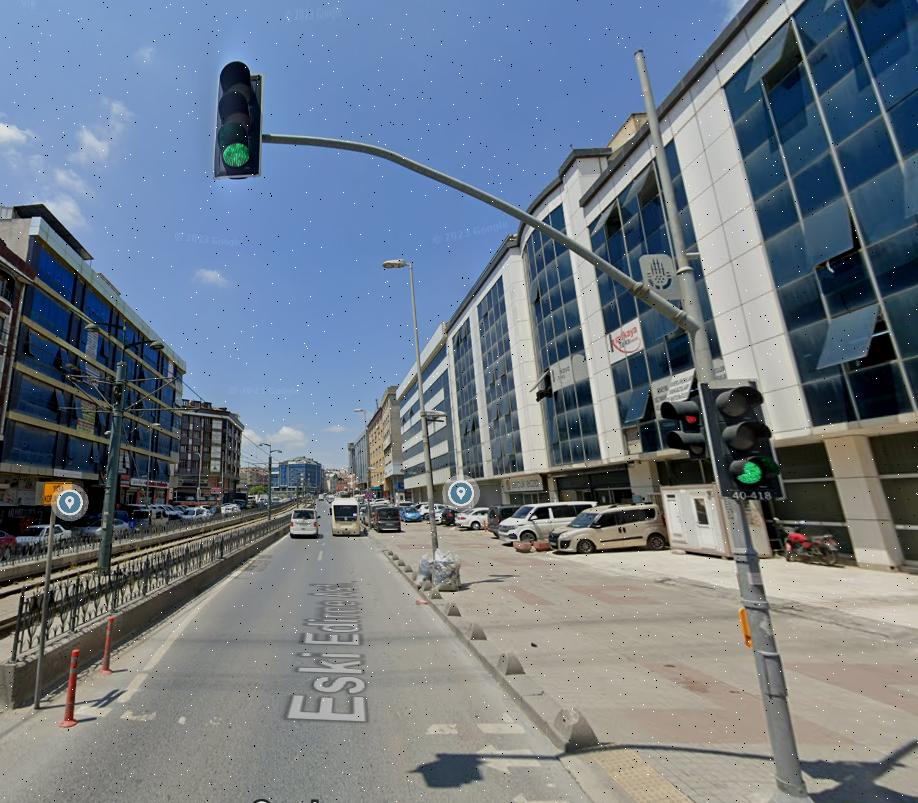greenlight: (705, 382, 775, 498), (210, 62, 262, 182)
